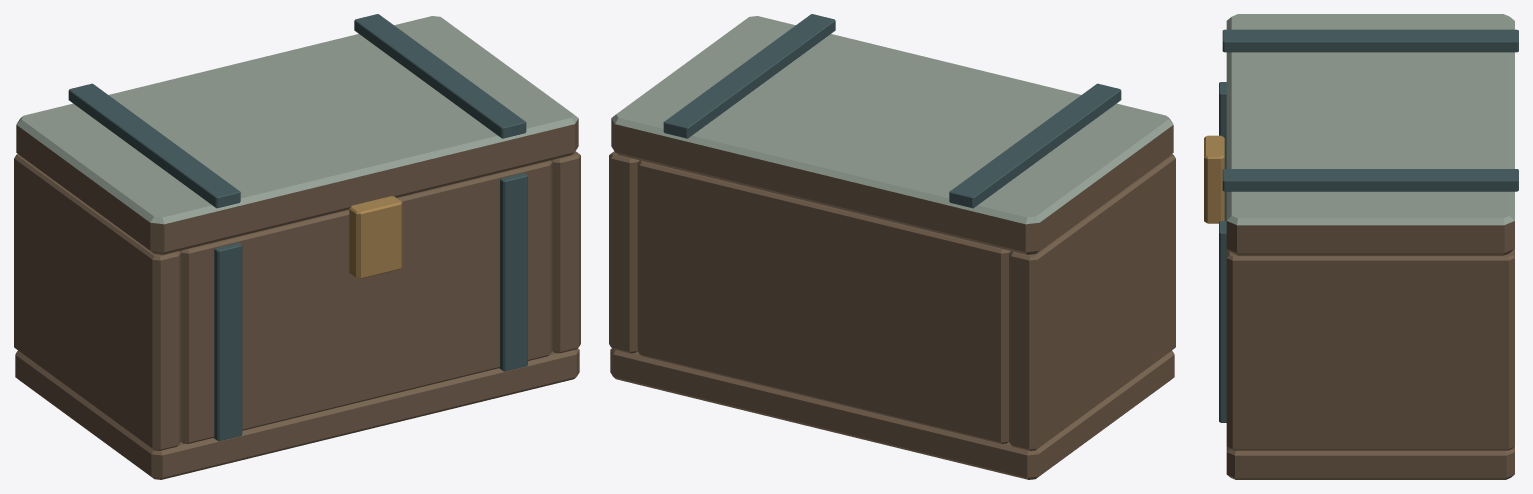
Rendered from supply-cache.glb.
3 renders of one model, left to right at view 1: azimuth 30°, elevation 25°; view 2: azimuth 150°, elevation 25°; view 3: azimuth 270°, elevation 25°, orthographic.
Parts seen in each view (by area): view 1: supply-cache__body; view 2: supply-cache__body; view 3: supply-cache__body.
Part boxes in pixels (<box>): supply-cache__body: <box>14,14,580,479</box>; supply-cache__body: <box>609,14,1175,479</box>; supply-cache__body: <box>1204,14,1518,479</box>.
Size of the model in its own units: 1.2 by 0.73 by 0.765.
